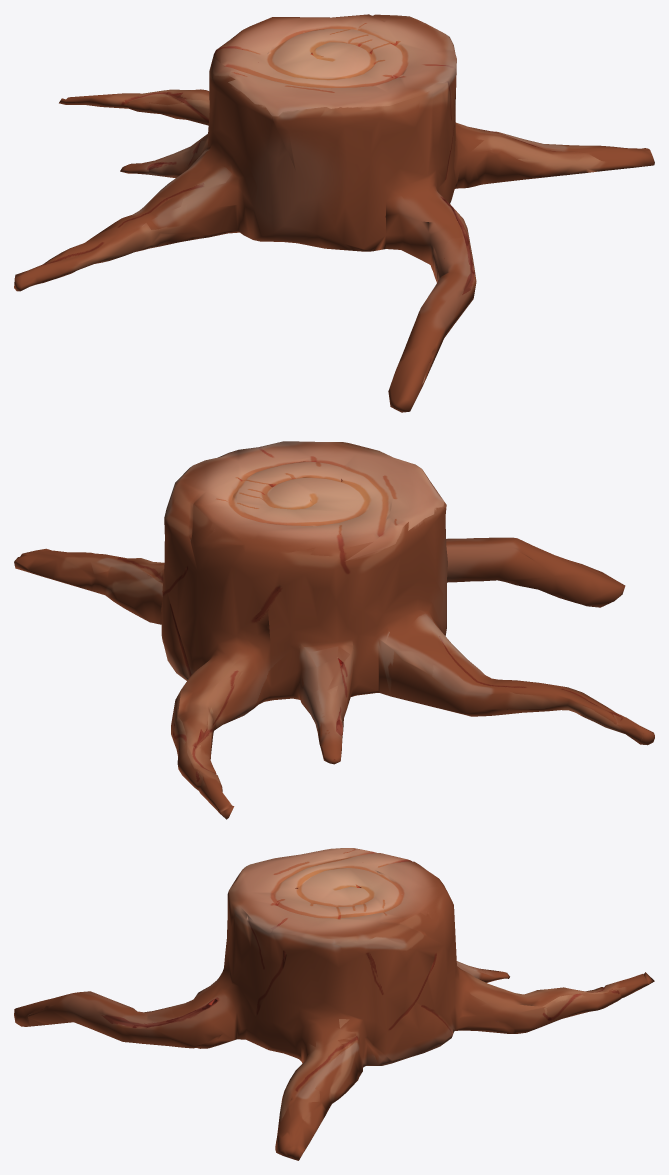
The model's file is TreeRoot.fbx.
The picture shows the model from 3 angles, top to bottom: view 1: azimuth 30°, elevation 25°; view 2: azimuth 150°, elevation 25°; view 3: azimuth 270°, elevation 25°; orthographic projection. The views are drawn at different scales.
Visible parts, largest first — view 1: Cylinder.010_Cylinder.003; view 2: Cylinder.010_Cylinder.003; view 3: Cylinder.010_Cylinder.003.
Boxes of the visible parts, box(x1,y1,x2,y2) form: Cylinder.010_Cylinder.003: box(14, 14, 654, 412); Cylinder.010_Cylinder.003: box(14, 441, 654, 819); Cylinder.010_Cylinder.003: box(14, 848, 654, 1160).
Size of the model in its own units: 140 by 44.28 by 141.
